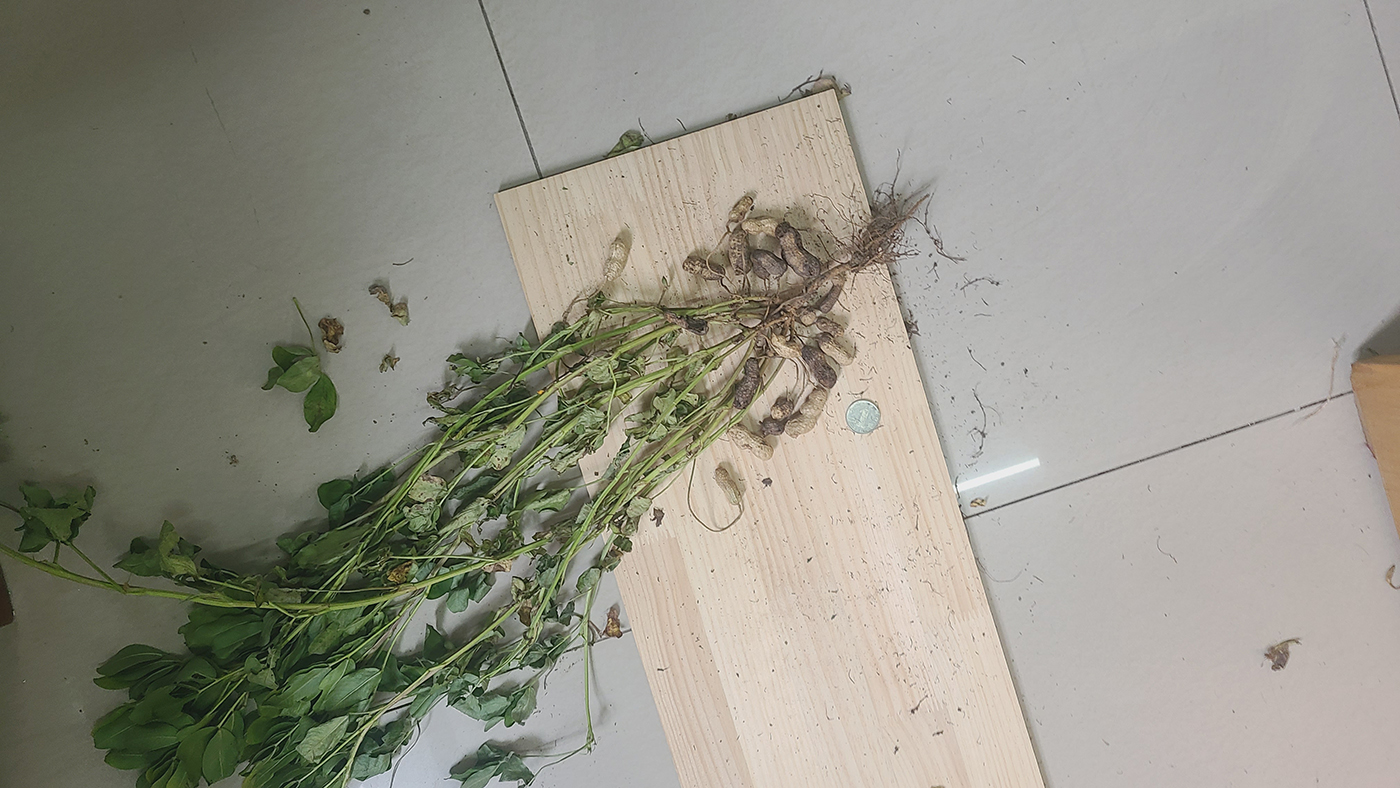h: (784, 387, 827, 439), (729, 424, 776, 460), (819, 333, 855, 366), (602, 239, 630, 280), (714, 467, 742, 506), (769, 331, 802, 359), (742, 216, 777, 239), (728, 195, 754, 222), (798, 306, 815, 326)
l: (776, 221, 820, 282), (803, 346, 838, 388), (734, 357, 761, 409), (730, 225, 752, 276), (665, 312, 709, 336), (683, 255, 725, 280), (754, 248, 787, 274), (816, 315, 844, 337), (820, 284, 841, 312), (750, 254, 769, 281), (771, 397, 792, 419), (761, 418, 783, 436)
